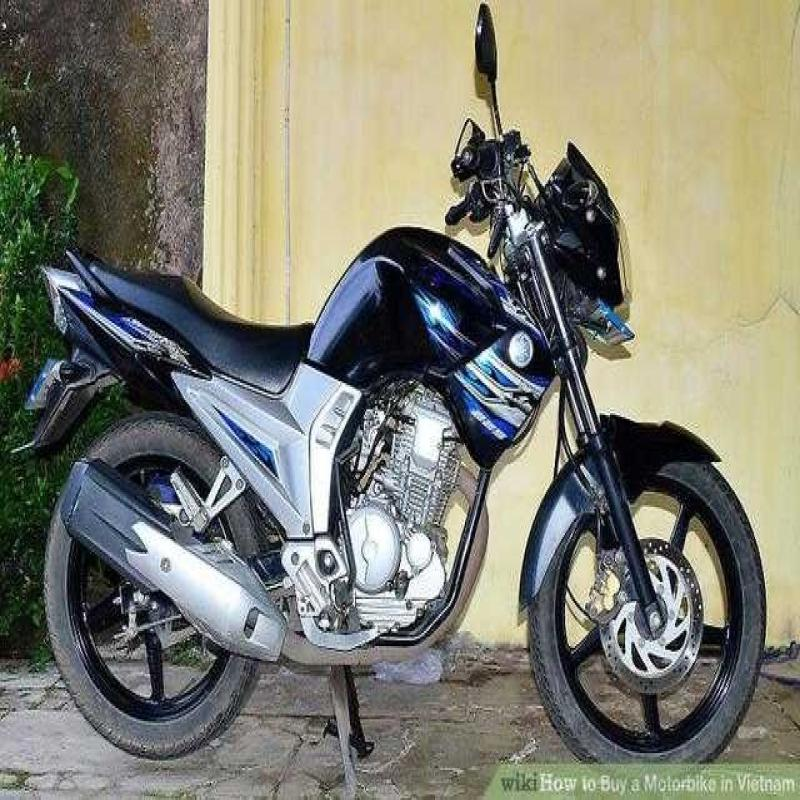bike: (1, 4, 794, 758)
